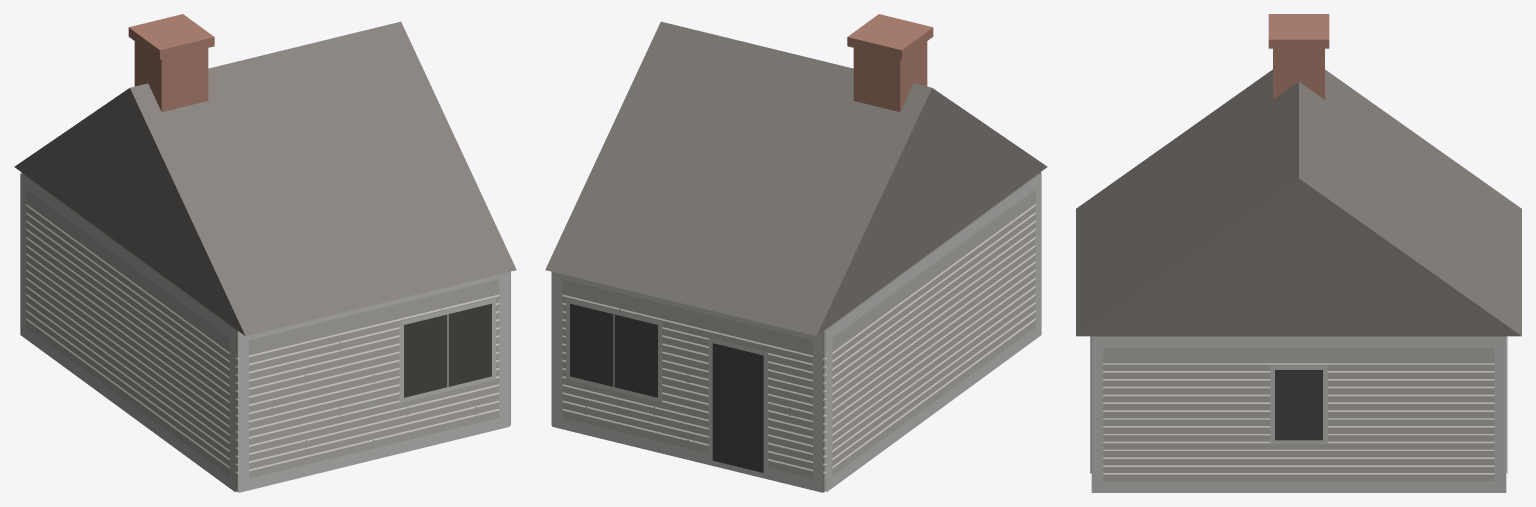
The model's file is recon_1835_west_002__inferred_1835.glb.
3 views of the same model, side by side, from view 1: azimuth 30°, elevation 25°; view 2: azimuth 150°, elevation 25°; view 3: azimuth 270°, elevation 25° (orthographic). The views are drawn at different scales.
Visible parts, largest first — view 1: recon_1835_west_002__inferred_1835; view 2: recon_1835_west_002__inferred_1835; view 3: recon_1835_west_002__inferred_1835.
Boxes of the visible parts, bbox=[...] form: recon_1835_west_002__inferred_1835: bbox=[14, 14, 516, 492]; recon_1835_west_002__inferred_1835: bbox=[545, 14, 1047, 492]; recon_1835_west_002__inferred_1835: bbox=[1076, 14, 1521, 492].
Bounding box in the file's own units: 4.96 × 6.37 × 7.21.
